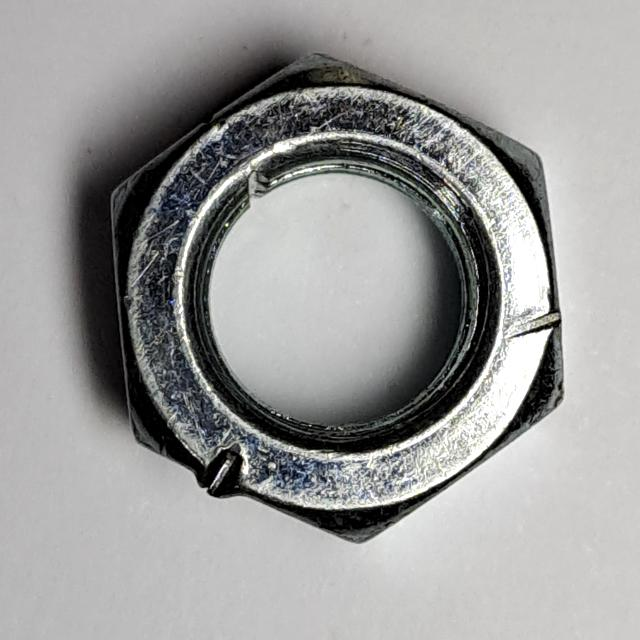Scratches: (104, 42, 580, 553)
